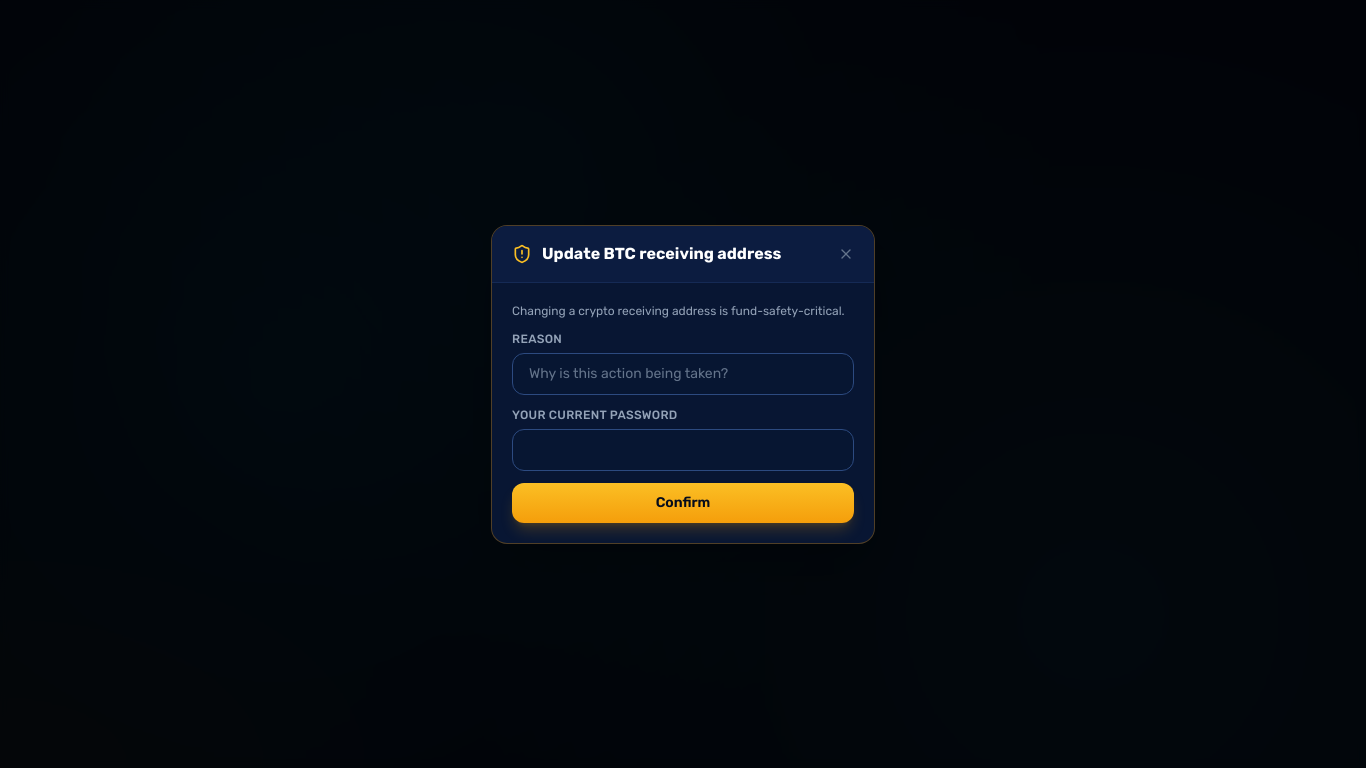
StepUpModal › surfaces the backend's exact rejection message (e.g. wrong password) via the error banner
The image size is (1366, 768).
Type "Test" into the field with placeholder "Why is this action being taken?" at (683, 374), box [512,352,854,394]
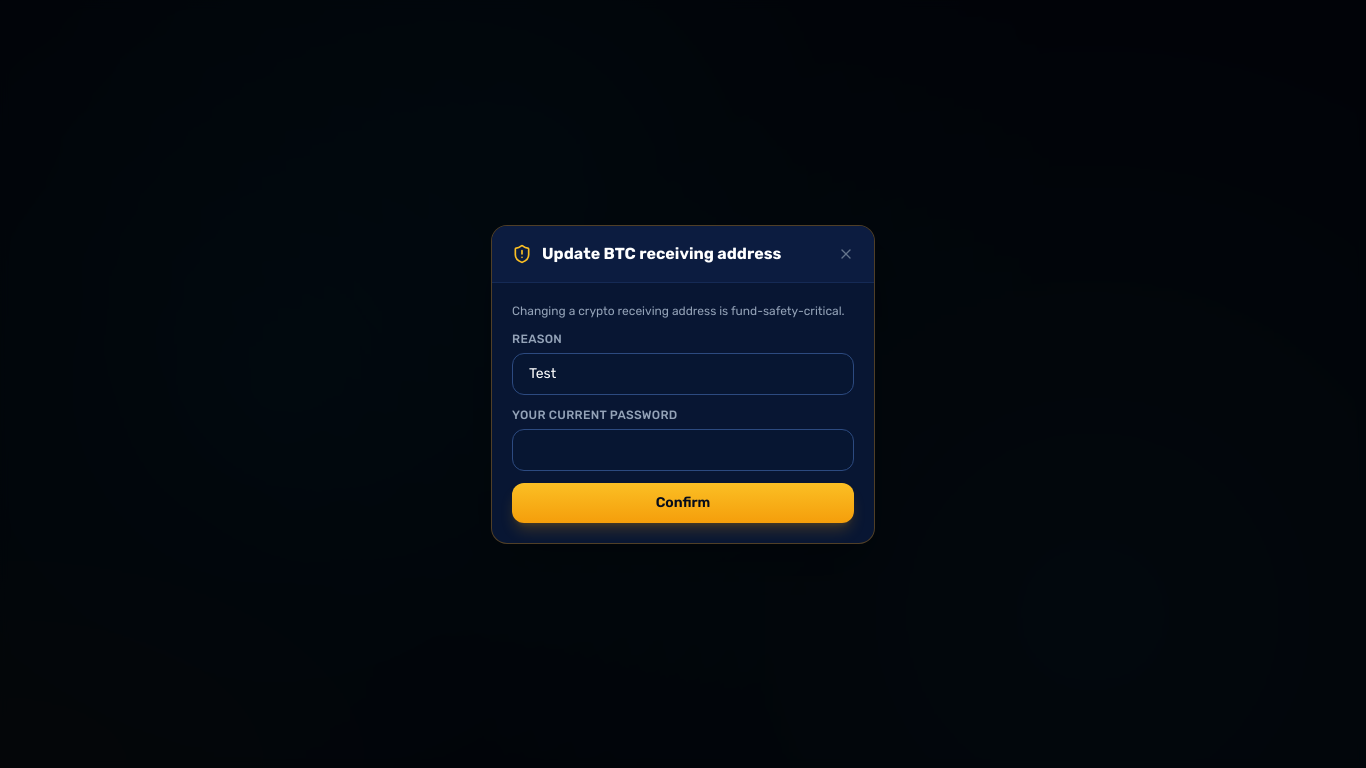
Type "wrong-password" into the password field at (683, 450), box [512,428,854,470]
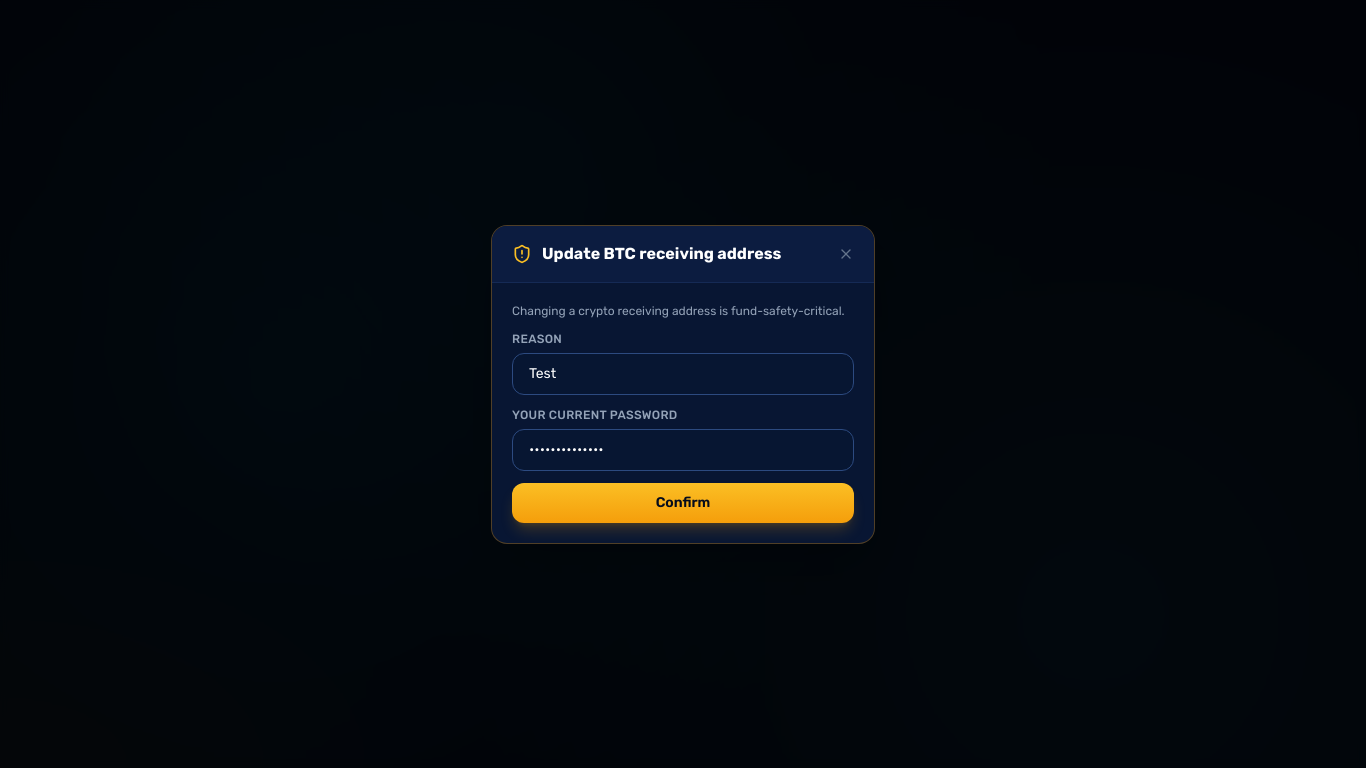
Click the button "Confirm" at (683, 502), box [512,482,854,522]
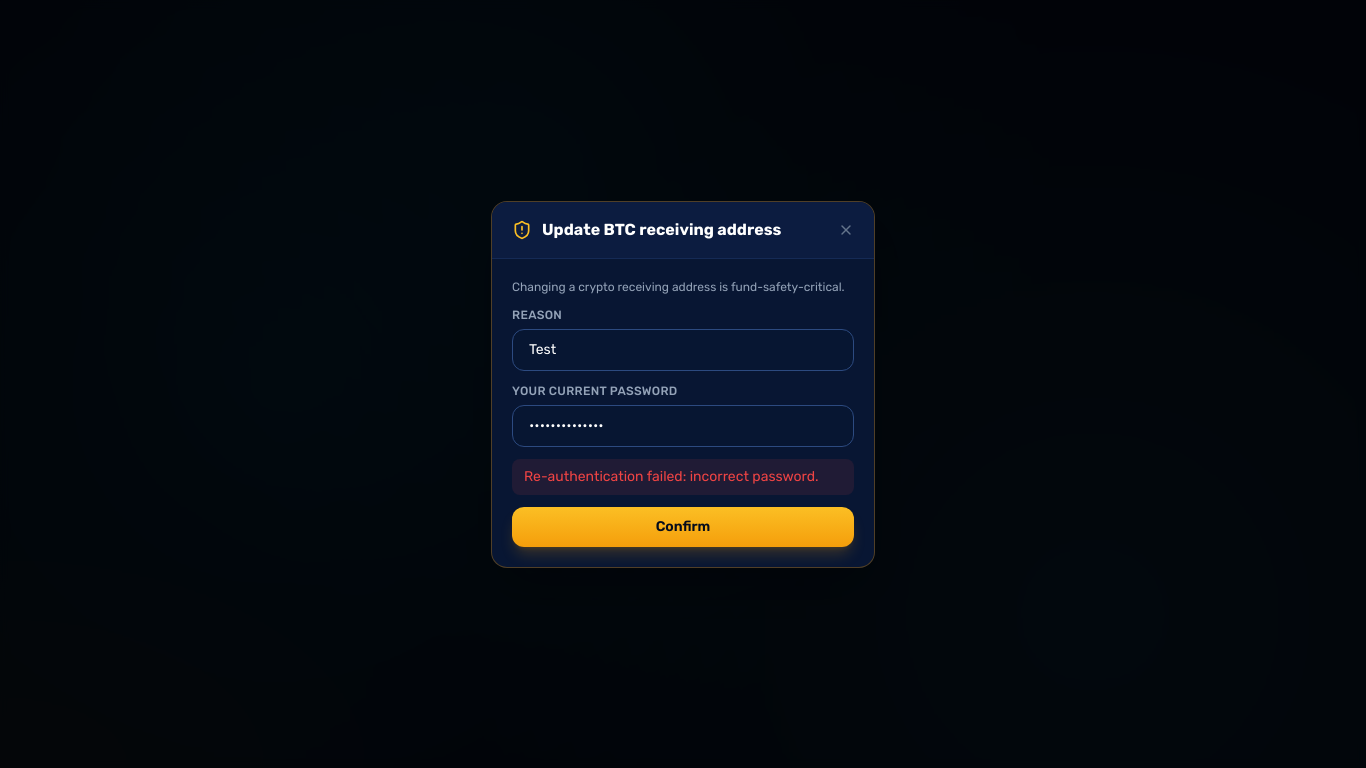
Check: the text "Re-authentication failed: incorrect password." is shown, box [512,458,854,494]
